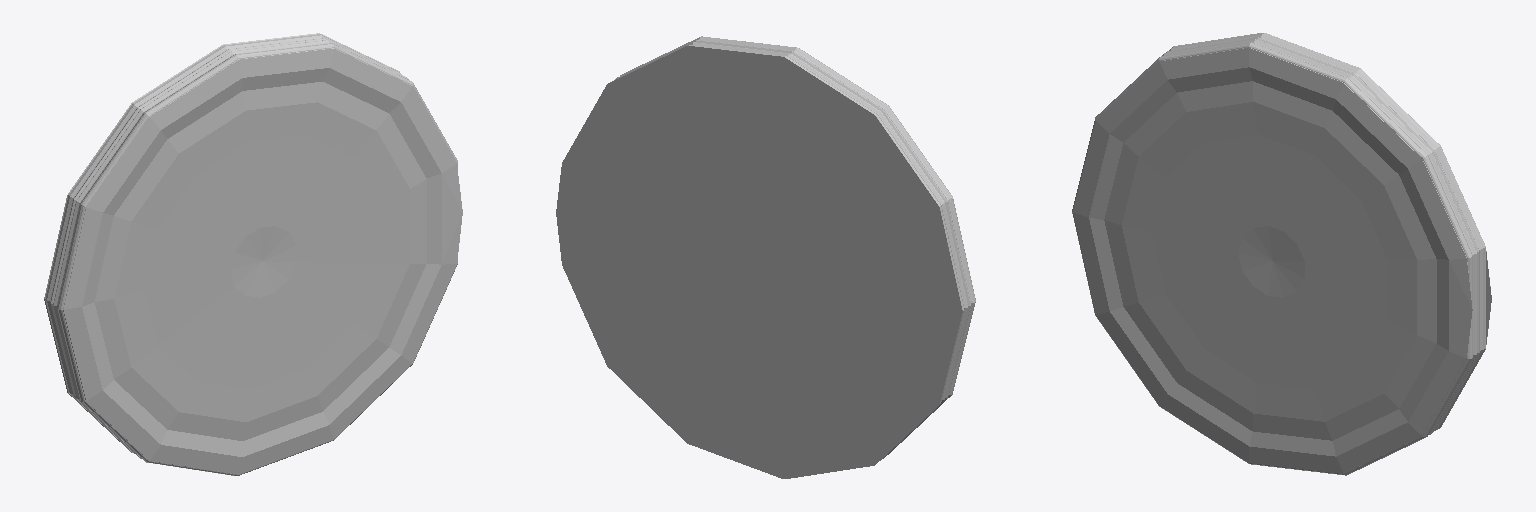
The model's file is Carne Hamburguesa.obj.
3 renders of one model, left to right at view 1: azimuth 30°, elevation 25°; view 2: azimuth 150°, elevation 25°; view 3: azimuth 330°, elevation 25°, orthographic.
Parts seen in each view (by area): view 1: Carne_Hamburguesa; view 2: Carne_Hamburguesa; view 3: Carne_Hamburguesa.
Part boxes in pixels (x1,y1,x2,y2): Carne_Hamburguesa: (44, 33, 462, 475); Carne_Hamburguesa: (556, 36, 975, 478); Carne_Hamburguesa: (1072, 33, 1491, 475).
Bounding box in the file's own units: 30 × 29.78 × 2.18.